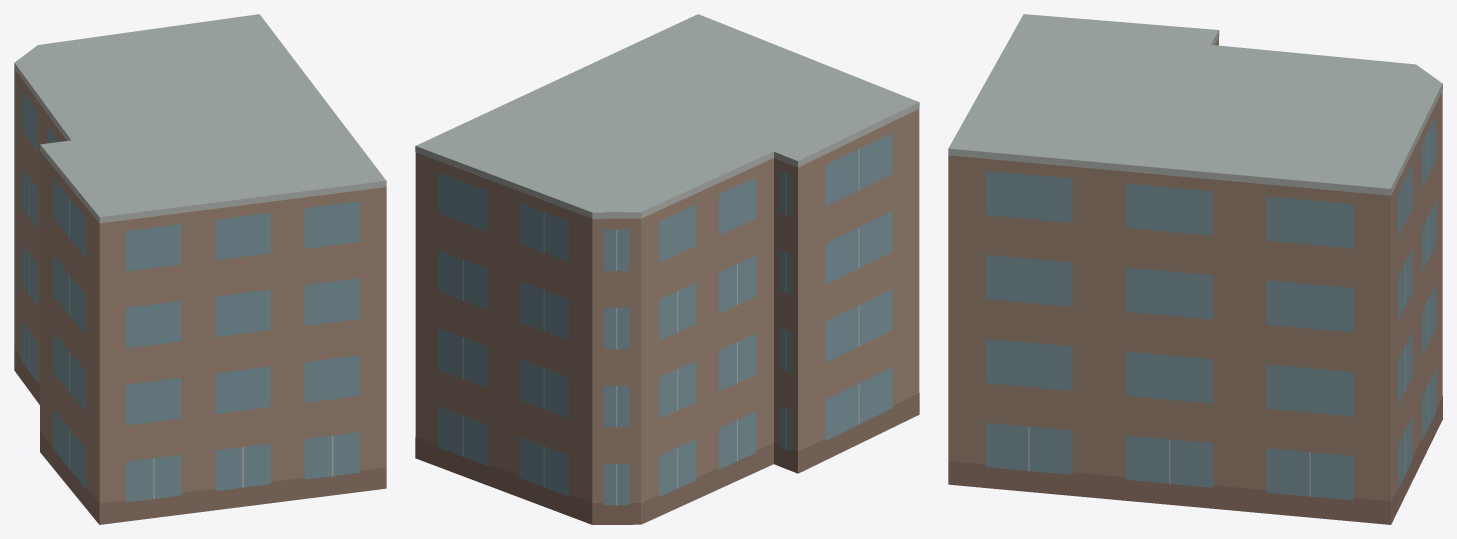
File: survey-upis-32953096.glb
3 views of the same model, side by side, from view 1: azimuth 30°, elevation 25°; view 2: azimuth 150°, elevation 25°; view 3: azimuth 270°, elevation 25° (orthographic). The views are drawn at different scales.
Visible parts, largest first — view 1: survey-upis-32953096.tmp; view 2: survey-upis-32953096.tmp; view 3: survey-upis-32953096.tmp.
Boxes of the visible parts, bbox=[...] form: survey-upis-32953096.tmp: bbox=[14, 14, 386, 524]; survey-upis-32953096.tmp: bbox=[415, 14, 919, 524]; survey-upis-32953096.tmp: bbox=[948, 14, 1442, 524].
Size of the model in its own units: 13.41 by 12 by 16.01.
